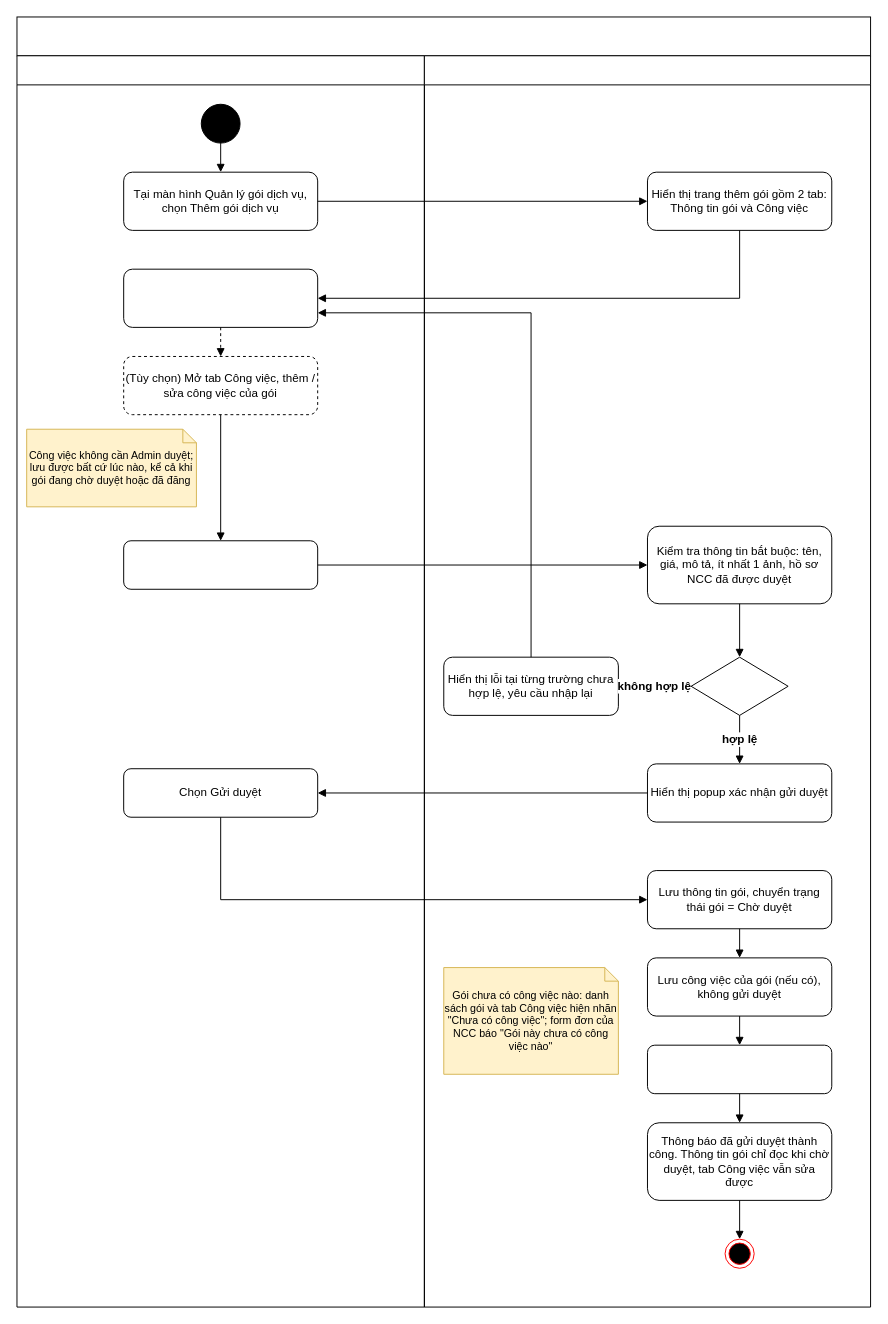
The diagram is 888 pixels wide and 1324 high, and some of its shapes have lost their labels. Each missing label, with the box of its shape:
Chọn nút Gửi duyệt: (123, 540, 318, 589)
Gửi thông báo cho Admin: Gói chờ duyệt: (647, 1044, 832, 1094)
Hệ thống: (423, 55, 871, 1307)
Nhà cung cấp: (16, 55, 424, 1307)
Nhập thông tin gói (tên, giá, mô tả...) và tải ảnh ở tab Thông tin gói: (123, 268, 318, 327)
QUY TRÌNH THÊM GÓI DỊCH VỤ: (16, 16, 871, 56)
